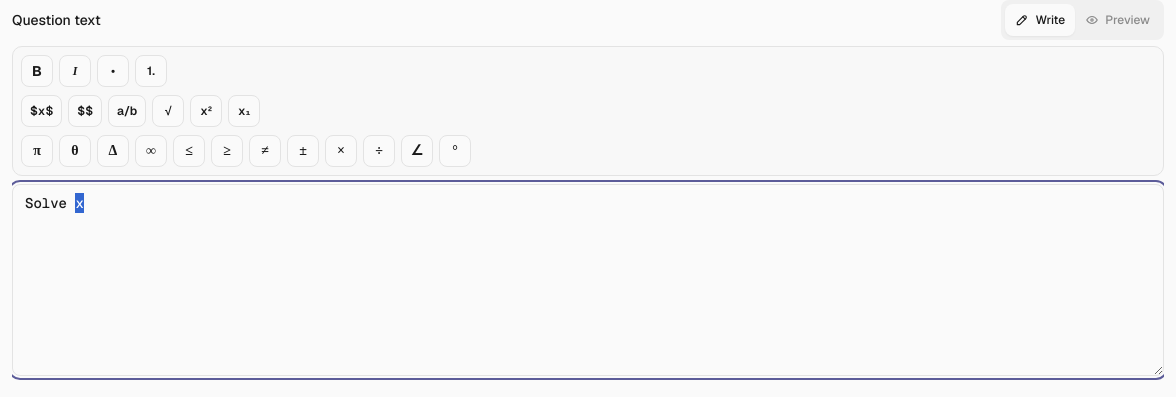
Test: MarkdownLatexEditor › inserts formatting and math templates at the cursor
Click the button named "Inline equation" at x=42, y=111, box [21,95,62,127]
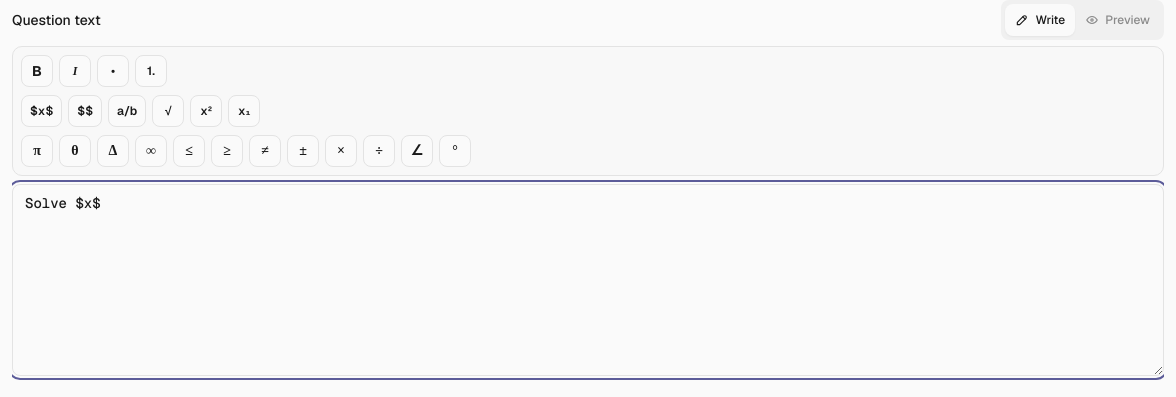
Now the text box labelled "Question text" holds "Solve $x$", box [12,184,1164,376]
Click the button named "Fraction" at x=127, y=111, box [108,95,146,127]
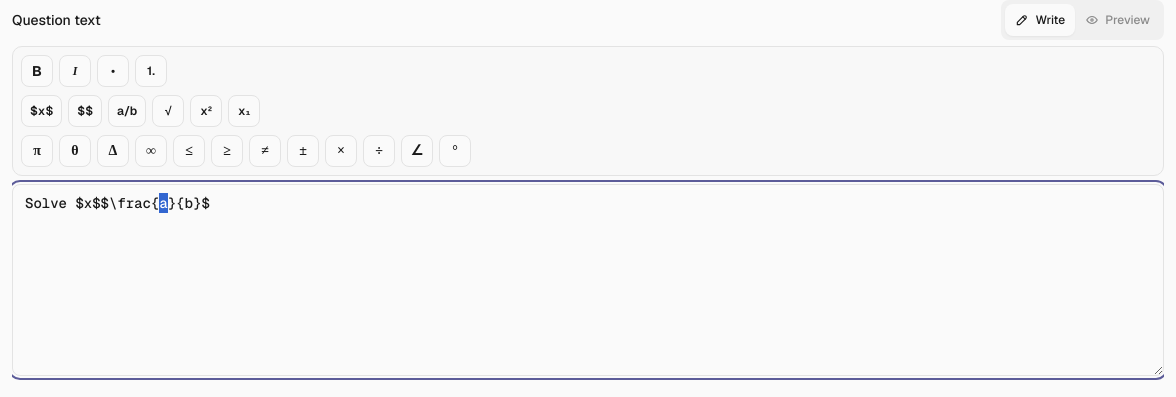
Now the text box labelled "Question text" holds "Solve $x$$\\frac{a}{b}$", box [12,184,1164,376]
